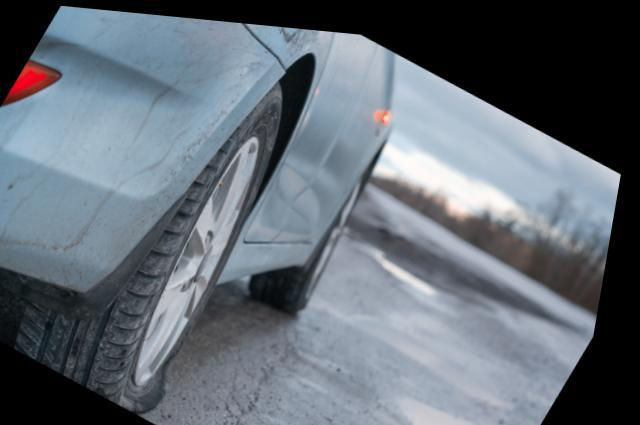tire flat: (22, 78, 284, 411)
